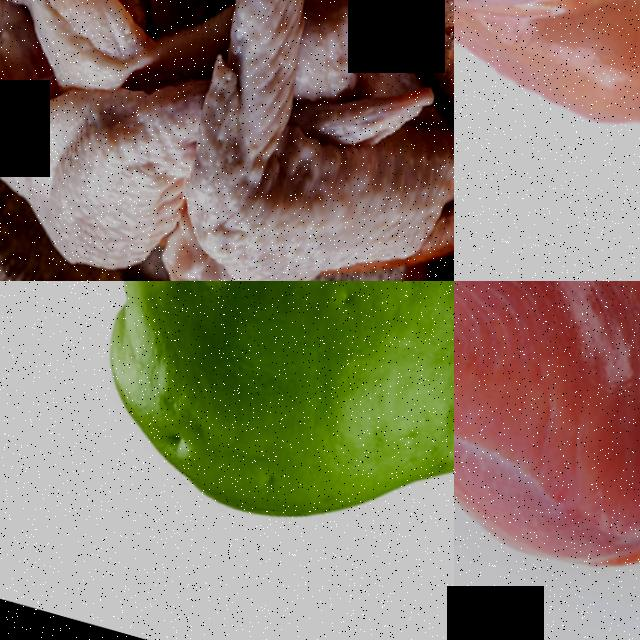chayote: (0, 281, 454, 620)
chicken breast: (454, 281, 640, 640), (454, 0, 640, 263)
chicken wing: (96, 0, 454, 281)
